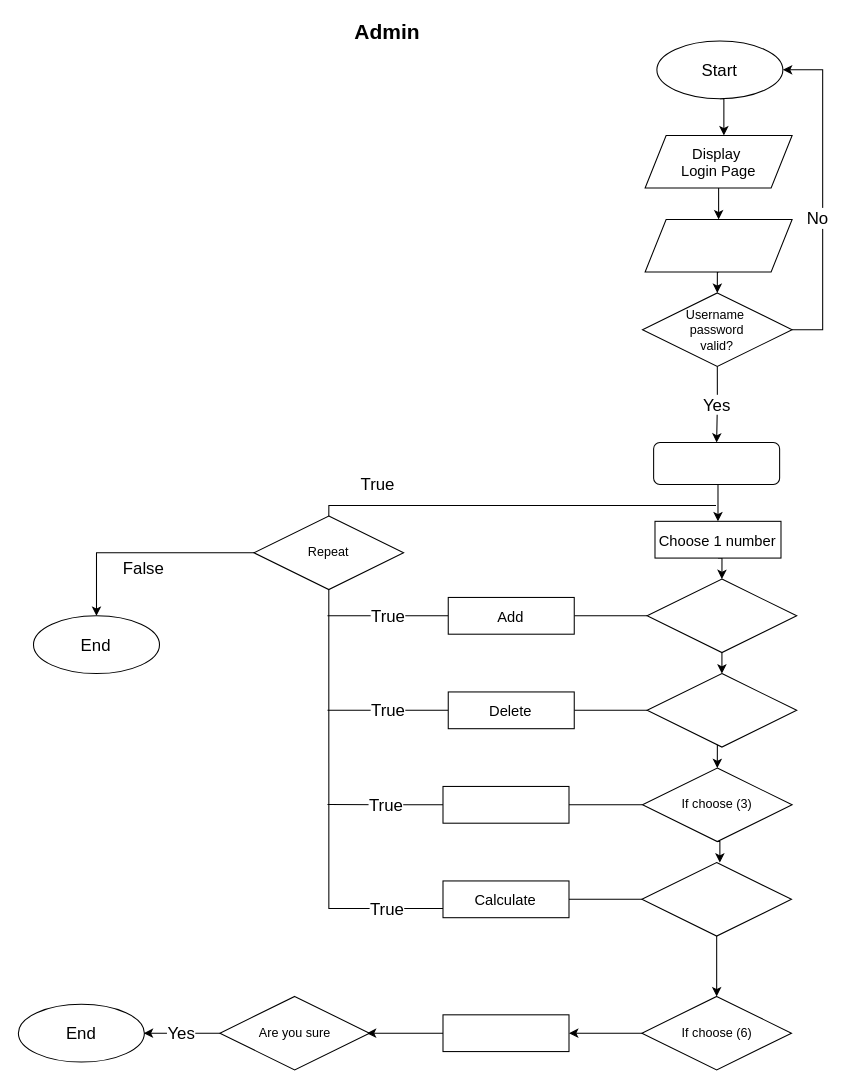
Some shapes in this 849 by 1089 pixel diagram are drawn without their labels. The centre of each missing label's shape, as x and y in pixels:
Enter Username and Password: (x=718, y=245)
Exit: (x=505, y=1033)
If choose (1): (x=721, y=615)
If choose (2): (x=721, y=710)
If choose (4): (x=716, y=899)
Logged in successfully: (x=716, y=463)
Update: (x=505, y=804)
